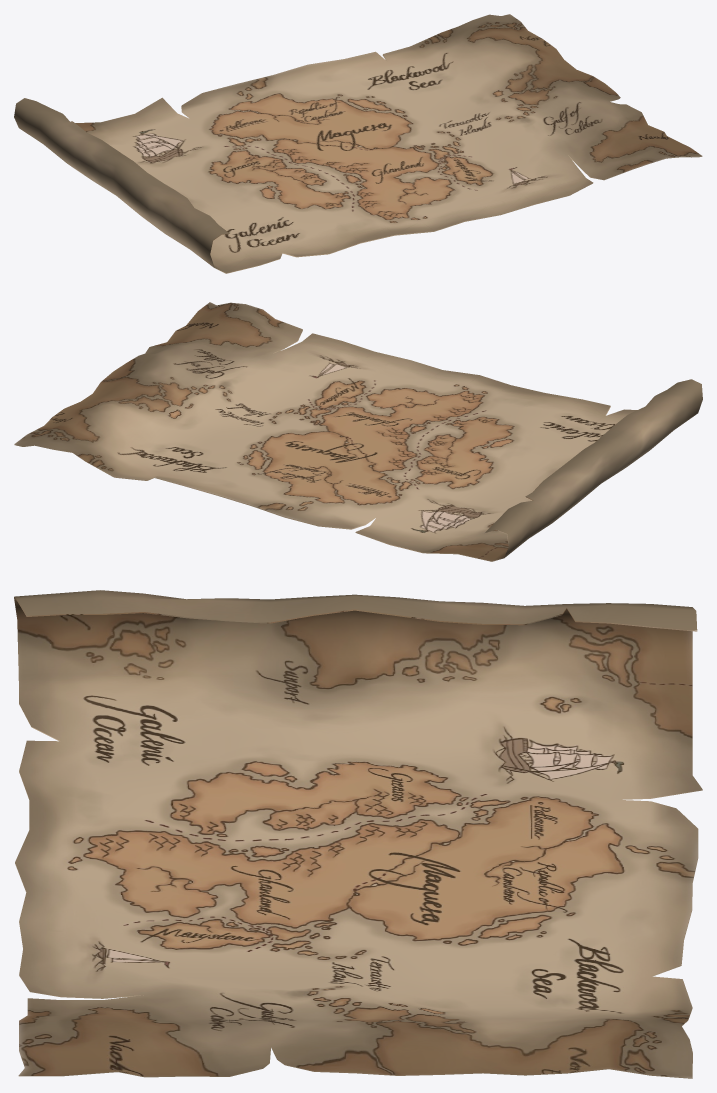
Rendered from SM_Map_Wall_01.fbx.
The picture shows the model from 3 angles, top to bottom: view 1: azimuth 30°, elevation 25°; view 2: azimuth 150°, elevation 25°; view 3: azimuth 270°, elevation 25°; orthographic projection. The views are drawn at different scales.
Parts seen in each view (by area): view 1: Plane, Plane.001; view 2: Plane, Plane.001; view 3: Plane, Plane.001.
Part boxes in pixels (<box>): Plane: <box>36,14,702,273</box>; Plane.001: <box>14,55,701,273</box>; Plane: <box>14,302,636,561</box>; Plane.001: <box>15,330,702,561</box>; Plane: <box>14,597,702,1078</box>; Plane.001: <box>14,590,702,1078</box>.
Size of the model in its own units: 403 by 39.75 by 280.
Materials: 2 (2 with a texture image).
